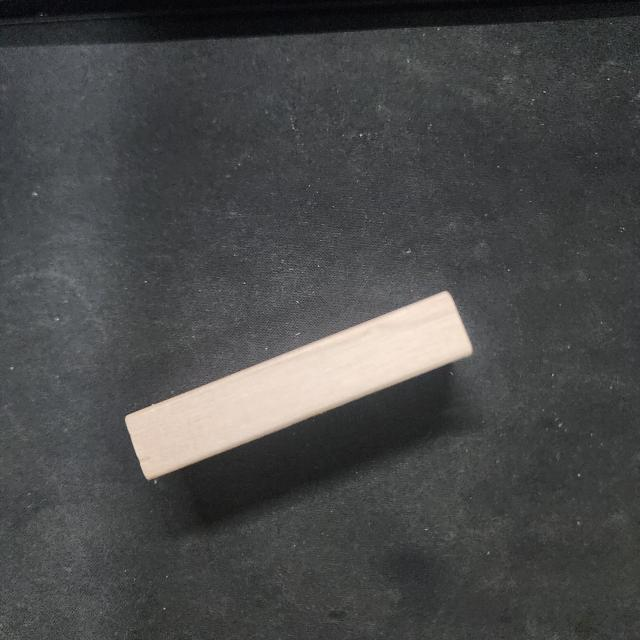wood: (121, 289, 473, 482)
